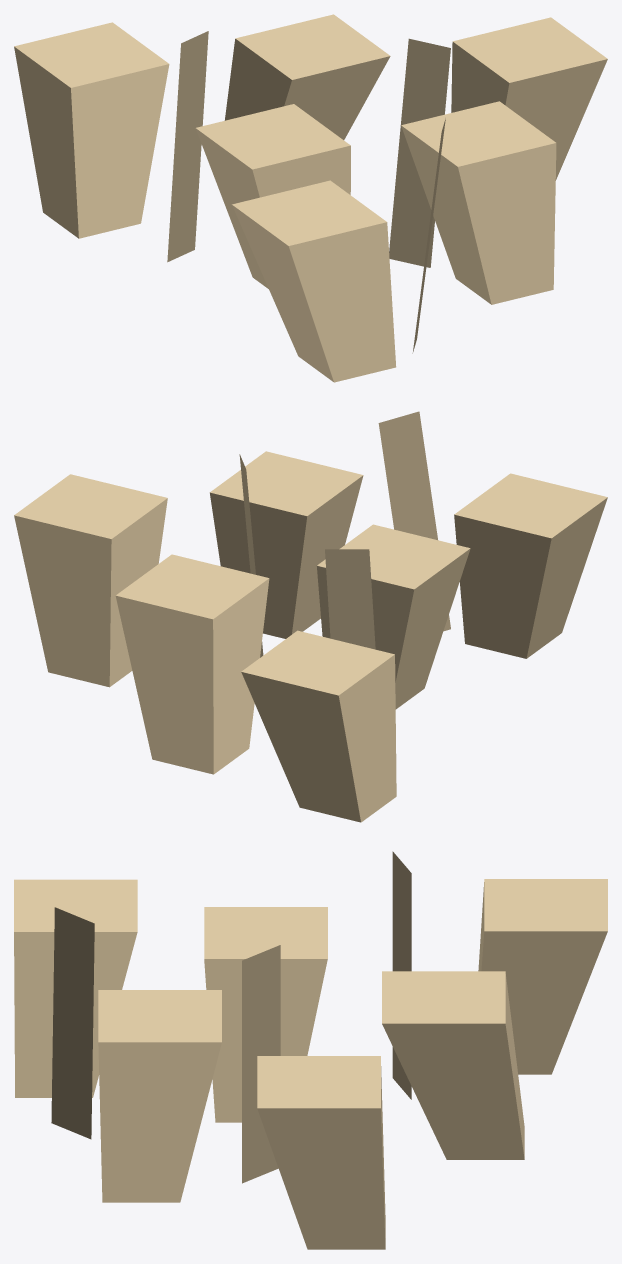
Rendered from Trigo2.fbx.
3 renders of one model, top to bottom at view 1: azimuth 30°, elevation 25°; view 2: azimuth 150°, elevation 25°; view 3: azimuth 270°, elevation 25°, orthographic. The views are drawn at different scales.
Parts seen in each view (by area): view 1: Cube.004; view 2: Cube.004; view 3: Cube.004.
Boxes of the visible parts, bbox=[...] form: Cube.004: bbox=[14, 14, 607, 382]; Cube.004: bbox=[14, 411, 607, 822]; Cube.004: bbox=[14, 851, 607, 1249].
Bounding box in the file's own units: 612 × 295 × 669.
